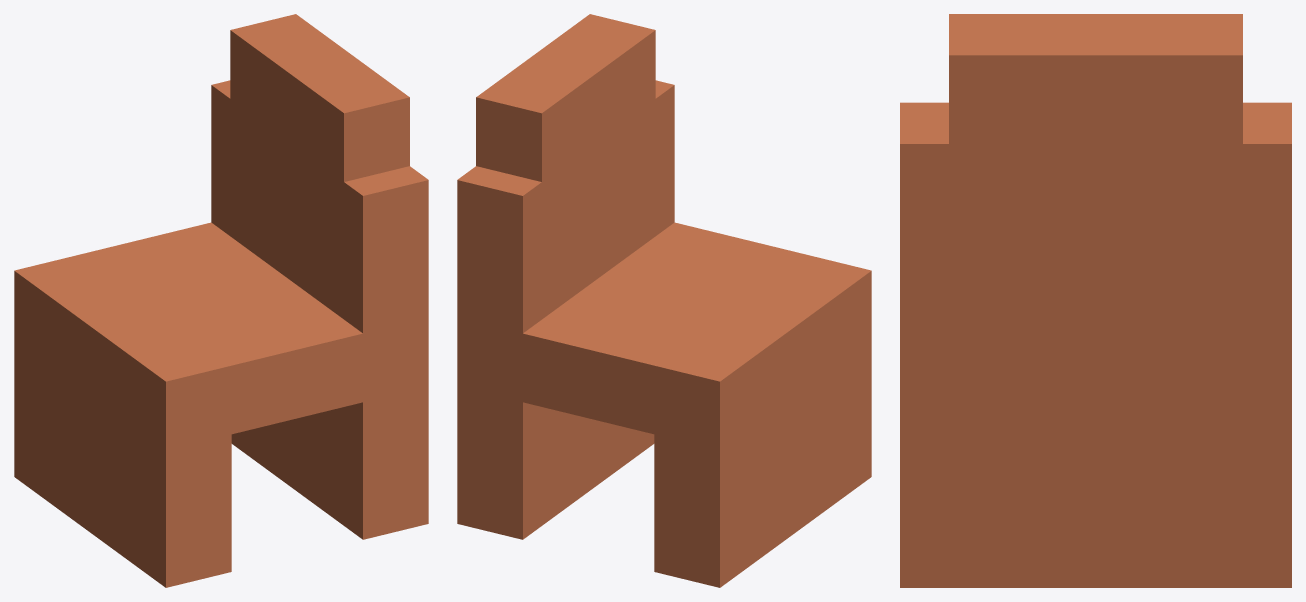
File: wood-chair.glb
The picture shows the model from 3 angles, left to right: view 1: azimuth 30°, elevation 25°; view 2: azimuth 150°, elevation 25°; view 3: azimuth 270°, elevation 25°; orthographic projection. The views are drawn at different scales.
Parts seen in each view (by area): view 1: generated(Clone); view 2: generated(Clone); view 3: generated(Clone).
Boxes of the visible parts, bbox=[...] form: generated(Clone): bbox=[14, 14, 428, 587]; generated(Clone): bbox=[457, 14, 871, 587]; generated(Clone): bbox=[900, 14, 1291, 587].
Size of the model in its own units: 4 by 6 by 4.
1 material, 1 textured.
